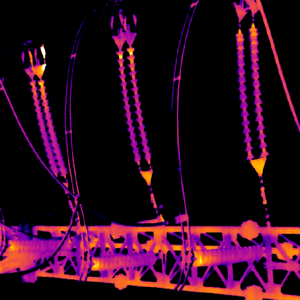insulator: (125, 44, 151, 163), (28, 78, 59, 176), (115, 48, 141, 163), (37, 78, 67, 177), (247, 25, 268, 157), (234, 28, 253, 159), (192, 243, 263, 265), (89, 250, 157, 268), (3, 236, 70, 253)
